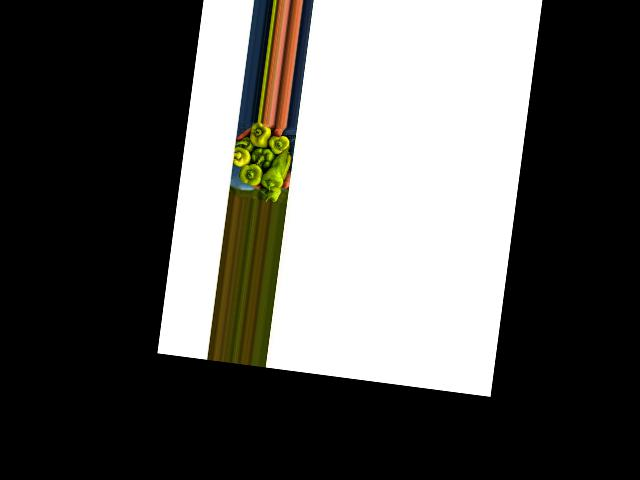bell_pepper: (246, 122, 270, 149)
